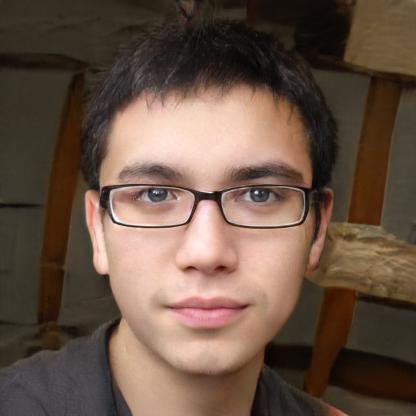glasses: (101, 176, 311, 238)
